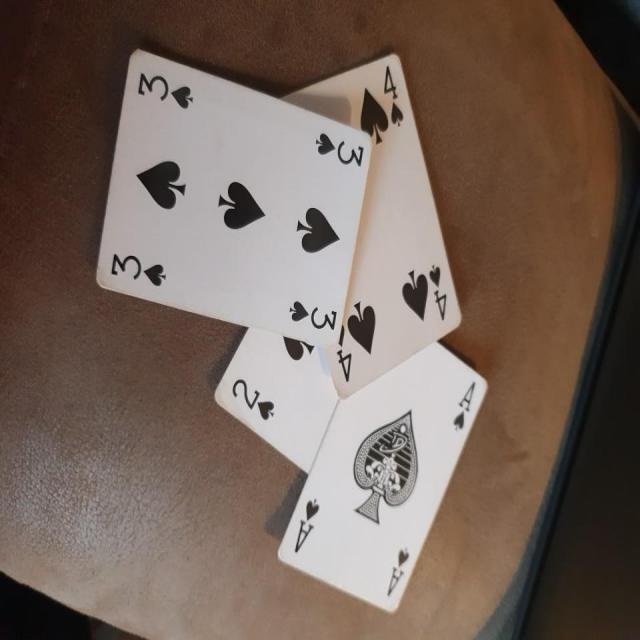2 of spades: (191, 320, 460, 492)
3 of spades: (90, 43, 375, 350)
4 of spades: (306, 2, 468, 396)
ace of spades: (279, 336, 503, 626)
